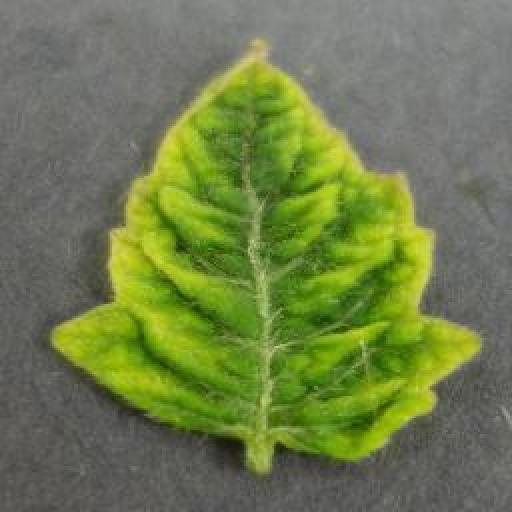Yellow Leaf Curl Virus: (50, 39, 479, 465)
